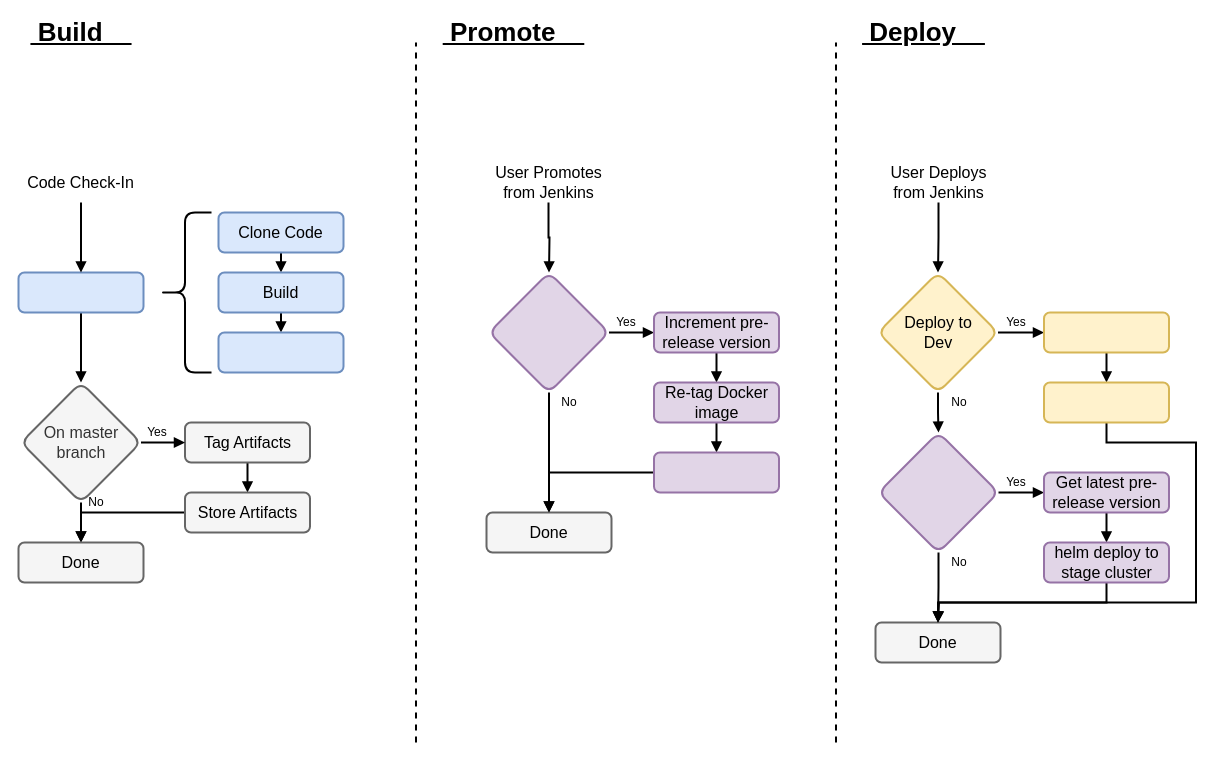
Image size: 1222x762. Some labels were removed from this diagram. Here are the shapes that lost their labels. From the top down, the centre of each, then its label:
At point (80, 292): "CI Pipeline".
At point (280, 352): "Test".
At point (549, 332): "Promote to Stage".
At point (1106, 332): "Get latest build version".
At point (1106, 402): "helm deploy to dev cluster".
At point (716, 472): "Tag git commit".
At point (938, 492): "Deploy to Stage".
